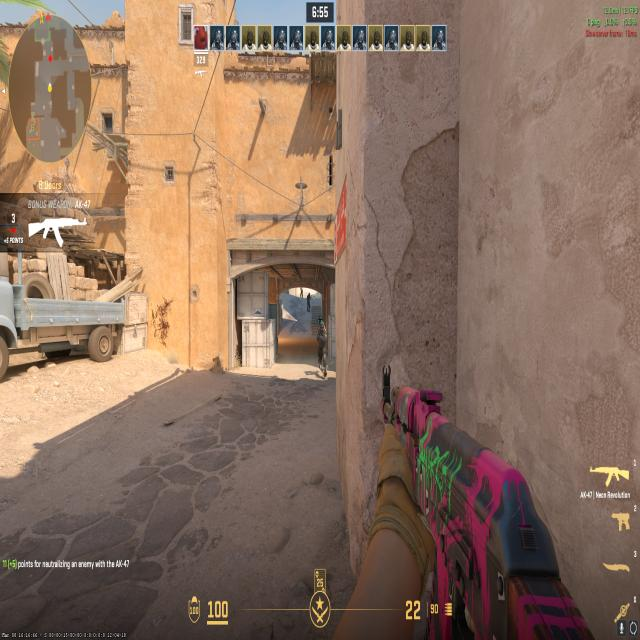ct: (315, 312, 331, 383), (305, 288, 312, 315)
t: (297, 282, 304, 298)
